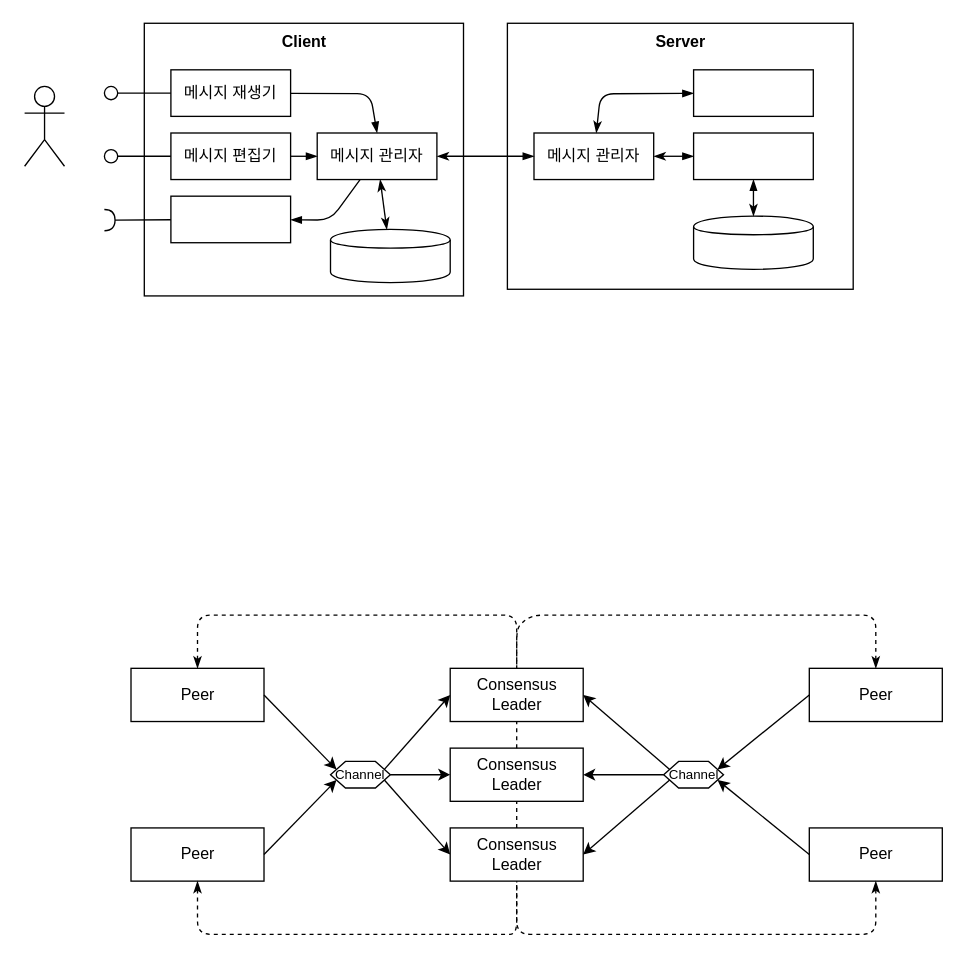
Image size: 966x968. Some labels were removed from this diagram. The shapes that lost their labels are listed below. From the top down, each one's centre as x and y in pixels, then its label:
At (752,92): "계정 관리자".
At (44,125): "사용자".
At (752,156): "데이터 관리자".
At (230,219): "메시지 알림".
At (389,255): "Cache".
At (752,242): "Database".
